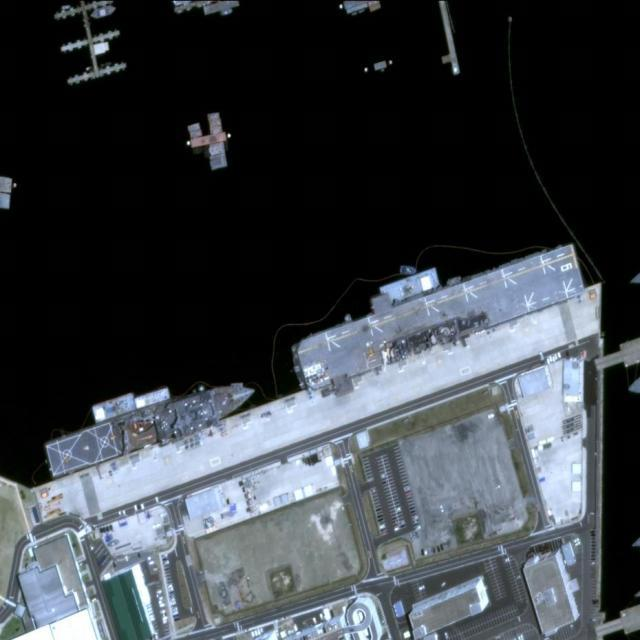Landing: (290, 245, 588, 388), (39, 369, 263, 480)
